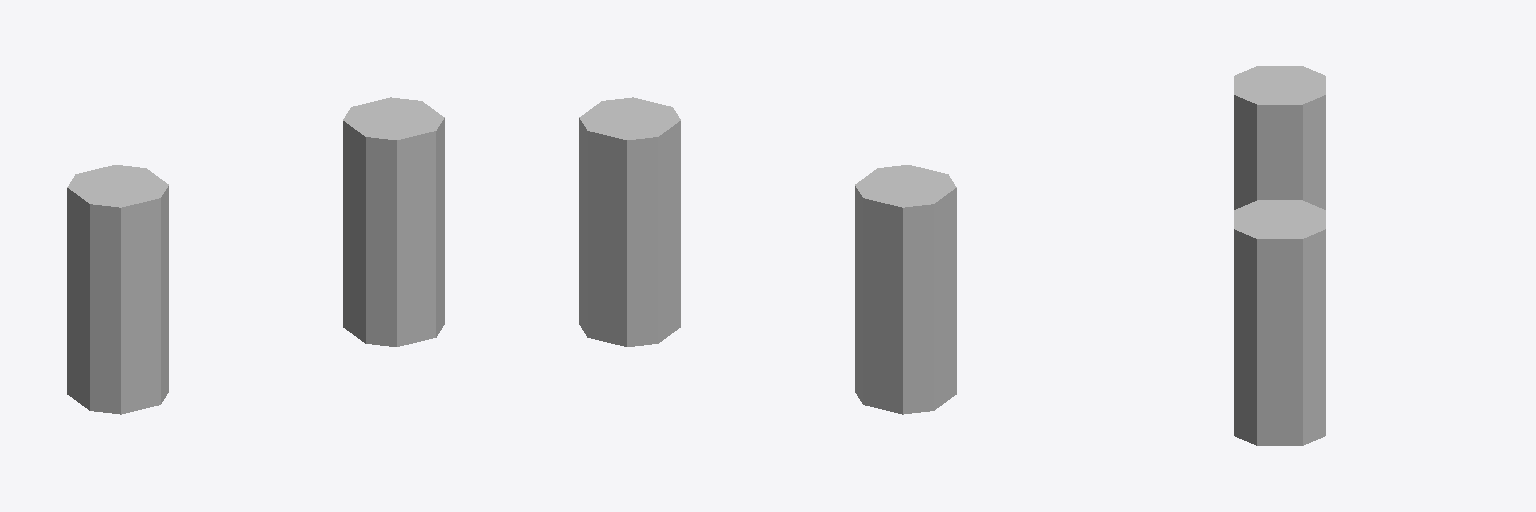
Rendered from support-two-middle.obj.
The picture shows the model from 3 angles: view 1: azimuth 30°, elevation 25°; view 2: azimuth 150°, elevation 25°; view 3: azimuth 270°, elevation 25°; orthographic projection.
Parts seen in each view (by area): view 1: support-two-middle; view 2: support-two-middle; view 3: support-two-middle.
Part boxes in pixels (x1,y1,x2,y2): support-two-middle: (67,97,444,414); support-two-middle: (579,97,956,414); support-two-middle: (1234,66,1325,445).
Bounding box in the file's own units: 0.8969 × 0.5 × 0.2.